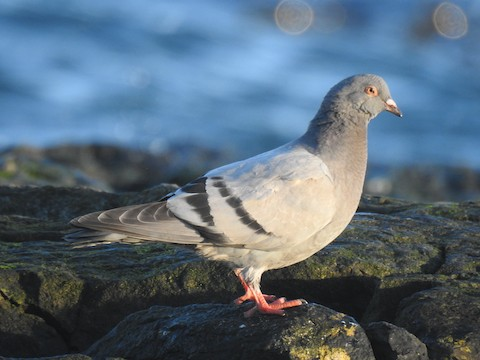pigeon: (60, 68, 403, 319)
